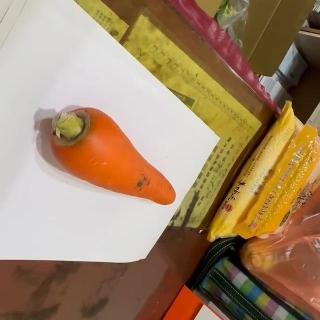carrot: (46, 106, 178, 206)
